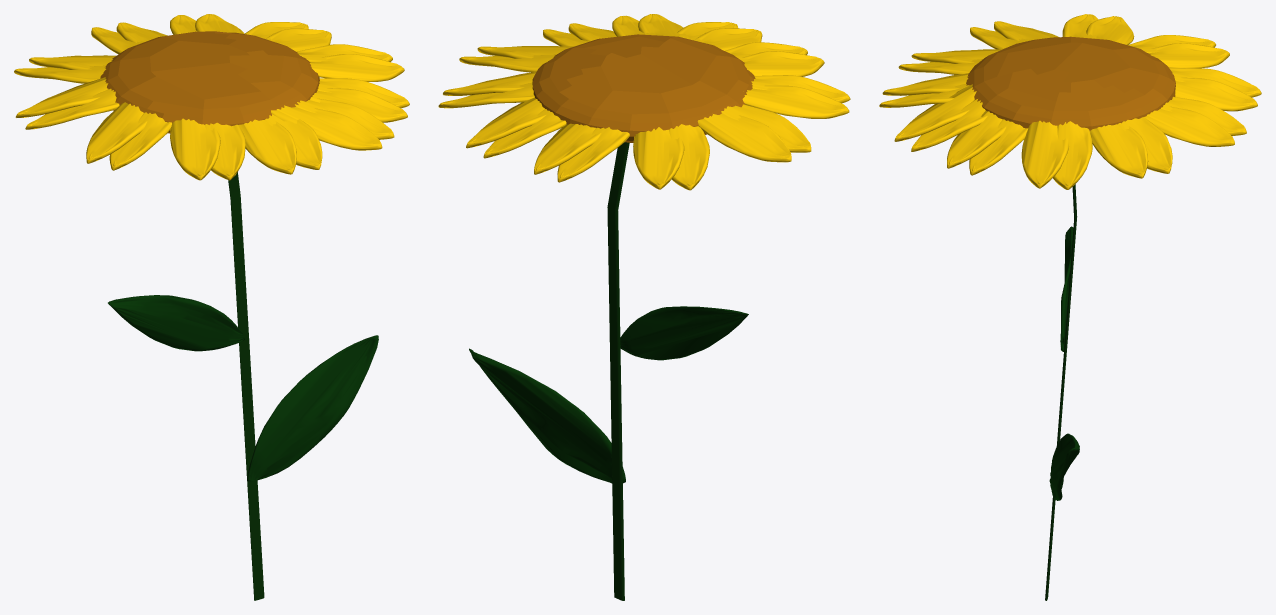
File: glebionisSegetum.obj
The picture shows the model from 3 angles, left to right: view 1: azimuth 30°, elevation 25°; view 2: azimuth 150°, elevation 25°; view 3: azimuth 270°, elevation 25°; orthographic projection. The views are drawn at different scales.
Parts seen in each view (by area): view 1: Sphere; view 2: Sphere; view 3: Sphere.
Part boxes in pixels (left/top/right/bottom): Sphere: left=14, top=14, right=409, bottom=600; Sphere: left=438, top=14, right=850, bottom=600; Sphere: left=879, top=14, right=1261, bottom=600.
Size of the model in its own units: 7.05 by 10.24 by 6.85.
